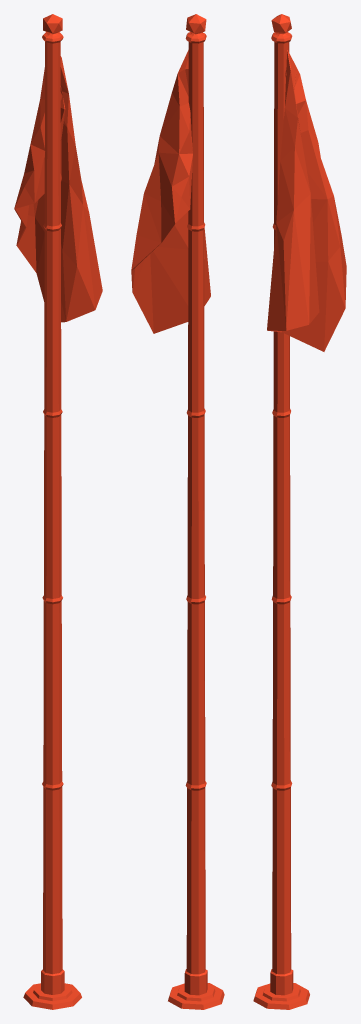
The model's file is SM_Flagpole_A_City.fbx.
The picture shows the model from 3 angles, left to right: view 1: azimuth 90°, elevation 25°; view 2: azimuth 150°, elevation 25°; view 3: azimuth 330°, elevation 25°; orthographic projection.
Parts seen in each view (by area): view 1: SM_Flagpole_A_City; view 2: SM_Flagpole_A_City; view 3: SM_Flagpole_A_City.
Boxes of the visible parts, left/top/right/bottom form: SM_Flagpole_A_City: left=14, top=14, right=102, bottom=1009; SM_Flagpole_A_City: left=131, top=14, right=224, bottom=1009; SM_Flagpole_A_City: left=253, top=14, right=346, bottom=1009.
Bounding box in the file's own units: 0.8243 × 9.5 × 0.7756.
